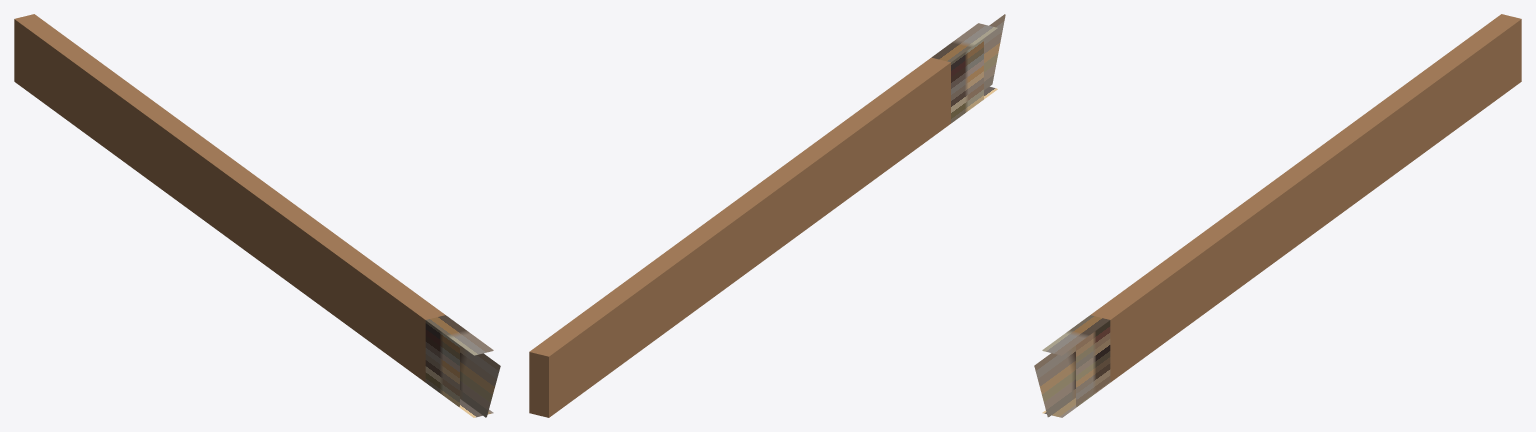
File: DBK_WoodFrame_Alone_A.fbx
The picture shows the model from 3 angles, left to right: view 1: azimuth 30°, elevation 25°; view 2: azimuth 150°, elevation 25°; view 3: azimuth 330°, elevation 25°; orthographic projection. The views are drawn at different scales.
Parts seen in each view (by area): view 1: DBK_WoodFrame_Alone_A; view 2: DBK_WoodFrame_Alone_A; view 3: DBK_WoodFrame_Alone_A.
Boxes of the visible parts, x1,y1,x2,y2 form: DBK_WoodFrame_Alone_A: (14, 14, 500, 417); DBK_WoodFrame_Alone_A: (529, 14, 1005, 417); DBK_WoodFrame_Alone_A: (1034, 14, 1521, 417).
Size of the model in its own units: 5 by 14.79 by 204.
